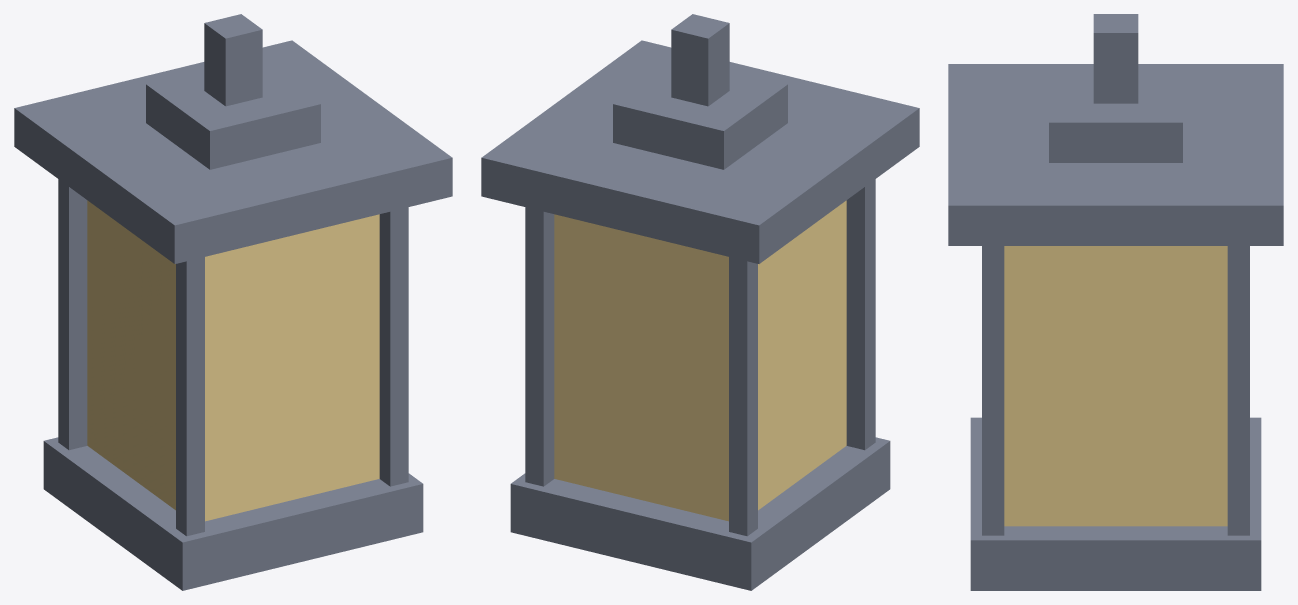
Rendered from title-lantern.gltf.
The picture shows the model from 3 angles, left to right: view 1: azimuth 30°, elevation 25°; view 2: azimuth 150°, elevation 25°; view 3: azimuth 270°, elevation 25°; orthographic projection. The views are drawn at different scales.
Visible parts, largest first — view 1: title-lantern; view 2: title-lantern; view 3: title-lantern.
Boxes of the visible parts, x1,y1,x2,y2 form: title-lantern: [14, 14, 452, 590]; title-lantern: [481, 14, 919, 590]; title-lantern: [948, 14, 1283, 590].
Bounding box in the file's own units: 60 × 100 × 60.
